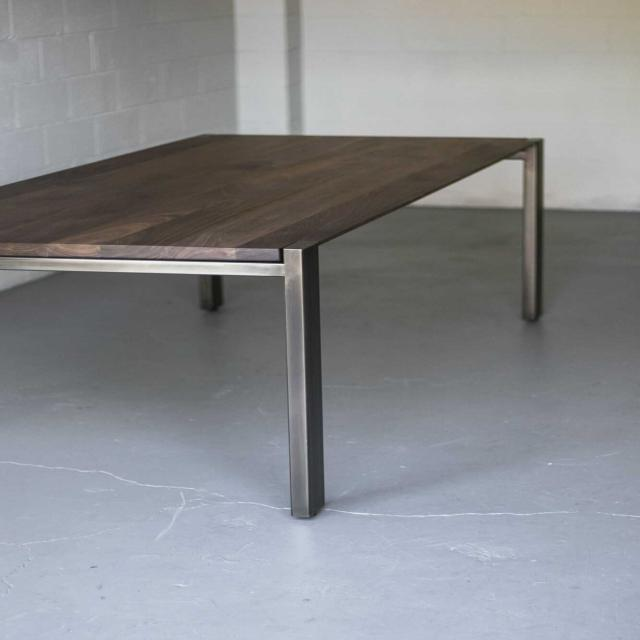table: (2, 94, 579, 555)
